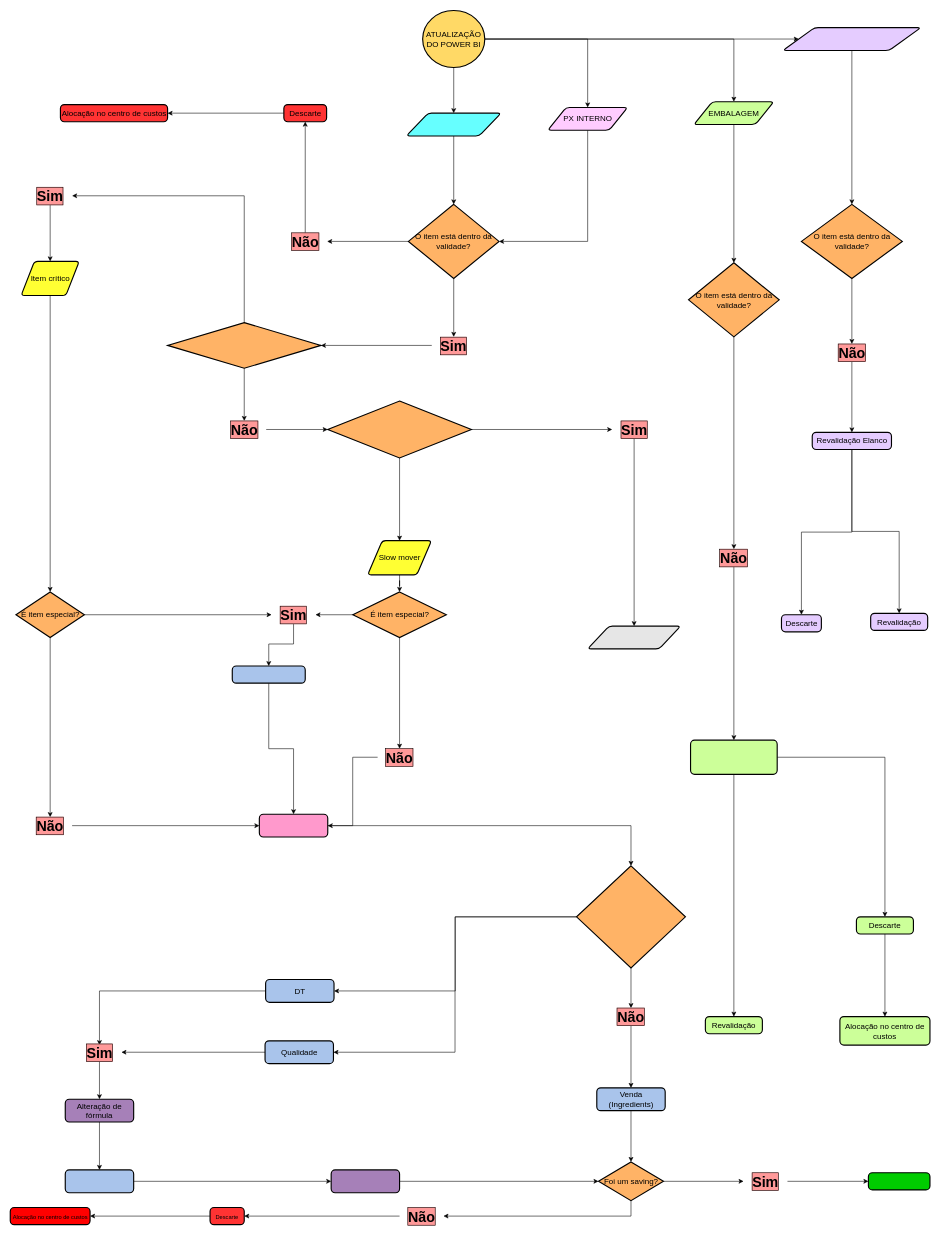
Some shapes in this 941 by 1235 pixel diagram are drawn without their labels. The centre of each missing label's shape, as x and y in pixels:
"API'S E EMBALAGENS ELANCO" goes at point (851, 39).
"Comercial" goes at point (268, 674).
"Consumo normal" goes at point (634, 637).
"Está no último 1/3 do shelf life?" goes at point (244, 345).
"Foi utilizado nos últimos 60 dias?" goes at point (399, 429).
"Forçar consumo" goes at point (365, 1181).
"Input do saving" goes at point (899, 1181).
"MATÉRIA-PRIMA" goes at point (453, 124).
"Planejamento" goes at point (99, 1181).
"Plano de ação" goes at point (293, 825).
"Revalidação qualidade" goes at point (733, 757).
"É possível alterar uma fórmula para utilizar?" goes at point (631, 916).
